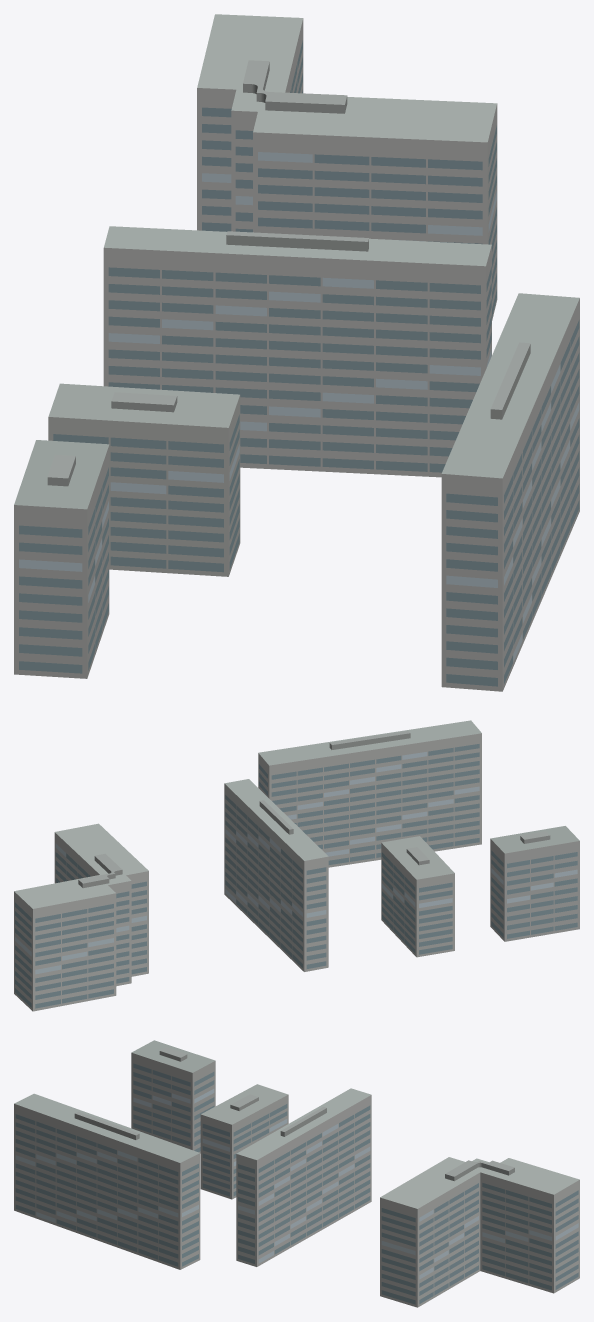
File: apt-a13790716.glb
3 views of the same model, one above another, from view 1: azimuth 30°, elevation 25°; view 2: azimuth 150°, elevation 25°; view 3: azimuth 270°, elevation 25° (orthographic). The views are drawn at different scales.
Visible parts, largest first — view 1: apt-a13790716; view 2: apt-a13790716; view 3: apt-a13790716.
Boxes of the visible parts, box(x1,y1,x2,y2) form: apt-a13790716: box(14, 14, 579, 691); apt-a13790716: box(14, 720, 579, 1011); apt-a13790716: box(14, 1040, 579, 1307).
Bounding box in the file's own units: 145 × 41.44 × 190.
